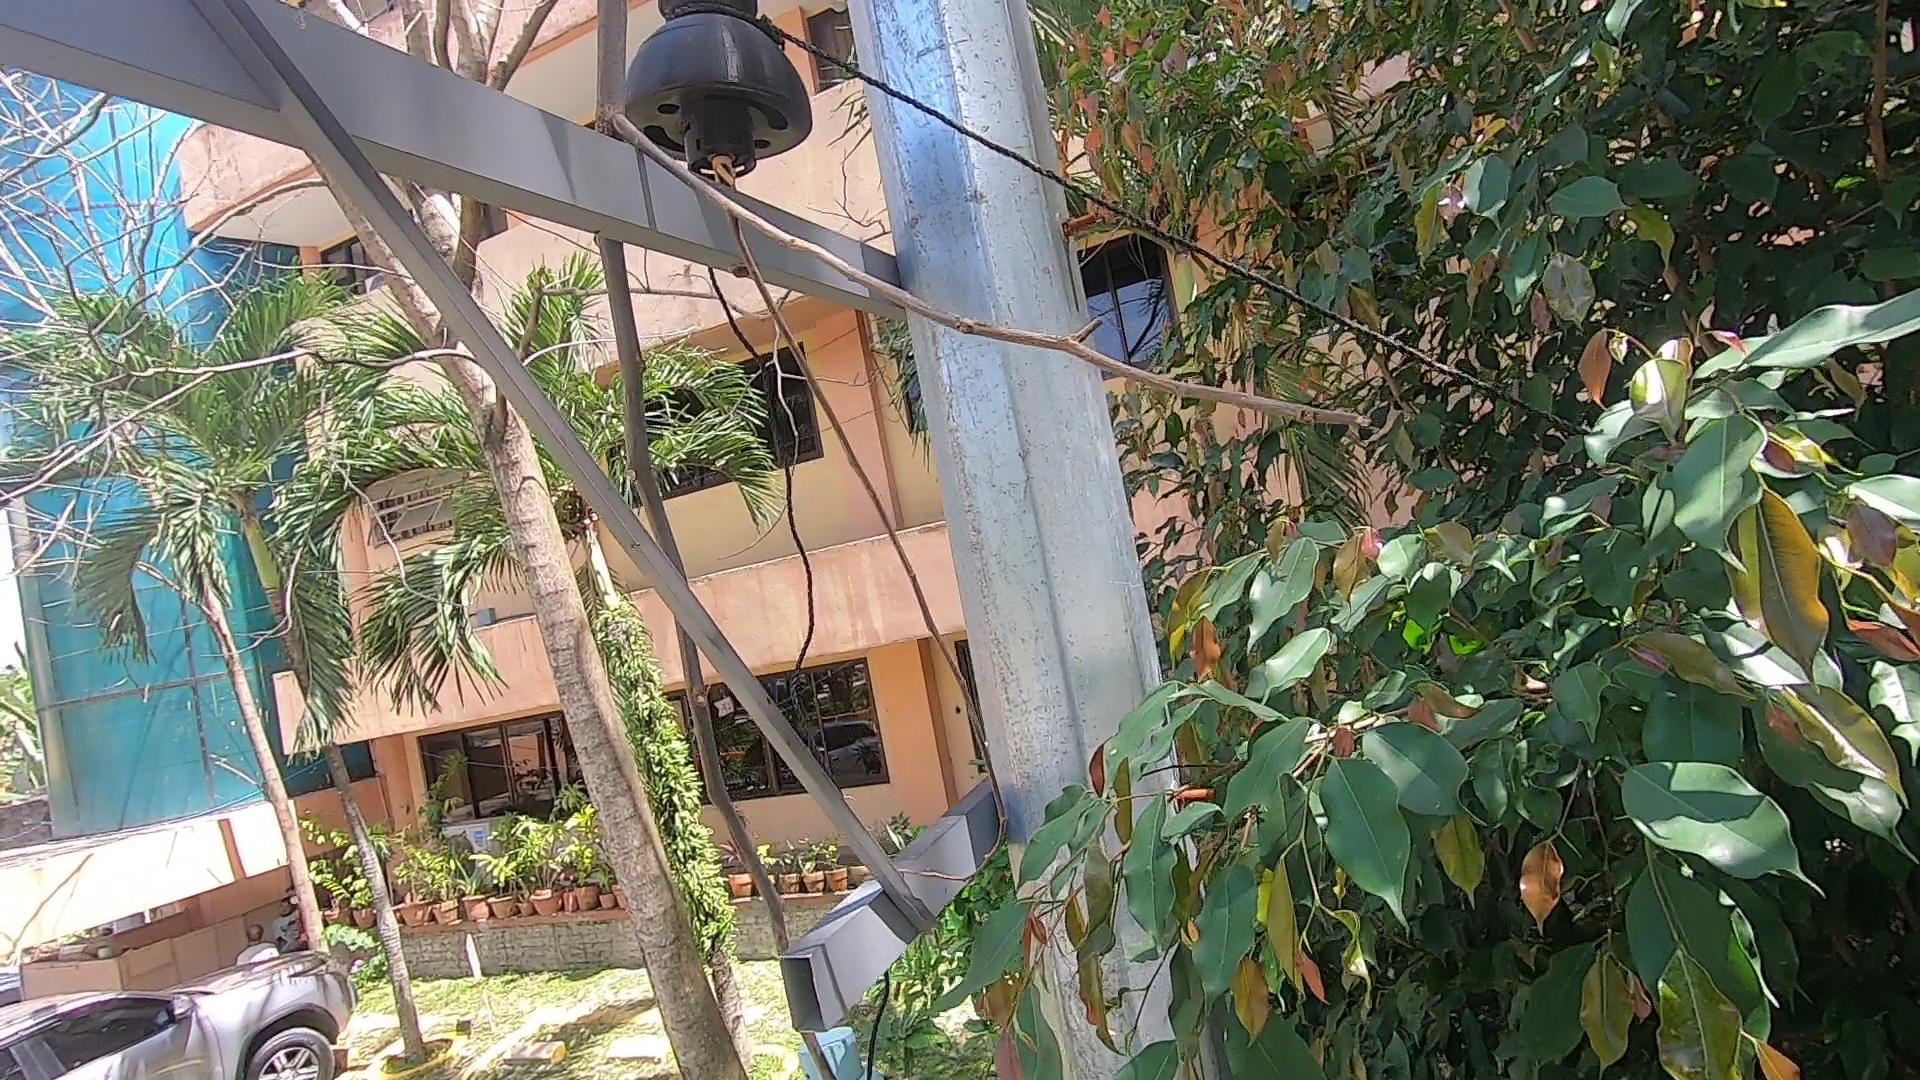tree branch: (545, 1, 1394, 1043)
